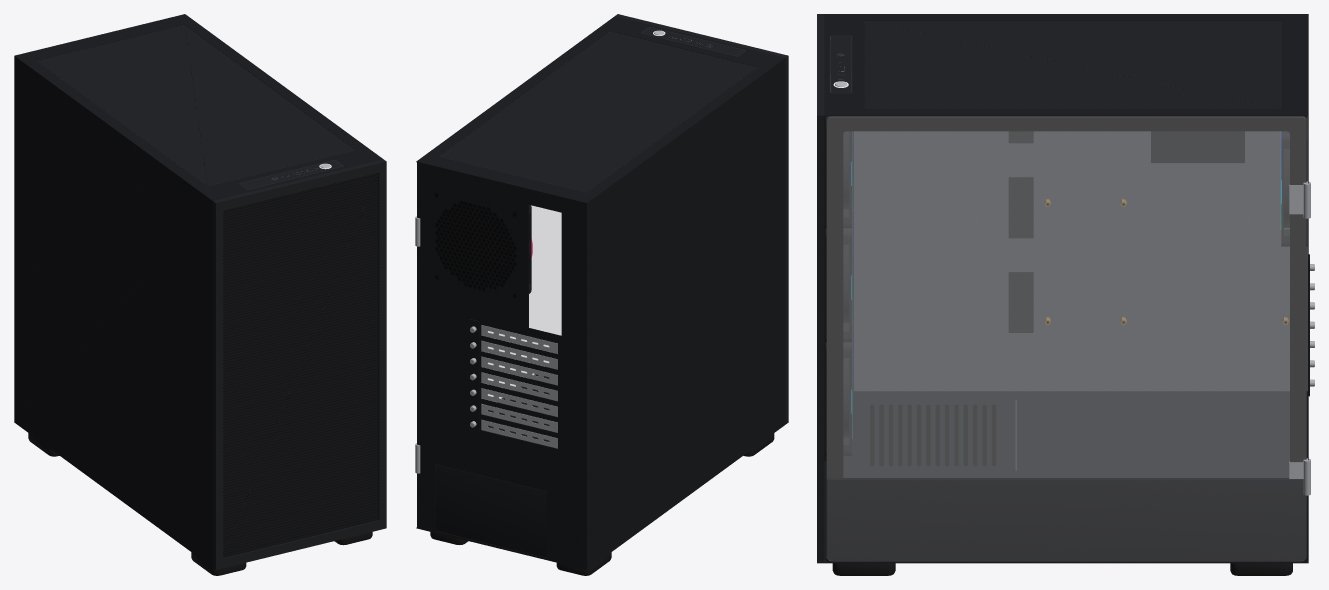
Rendered from mid-tower.glb.
3 views of the same model, side by side, from view 1: azimuth 30°, elevation 25°; view 2: azimuth 150°, elevation 25°; view 3: azimuth 270°, elevation 25° (orthographic). The views are drawn at different scales.
Parts seen in each view (by area): view 1: Front bezel and mesh, Steel chassis panels, Top I/O panel, Rubber feet; view 2: Steel chassis panels, Front bezel and mesh, PSU shroud, Expansion slot covers, Tempered glass side panel, Top I/O panel, Rubber feet; view 3: Tempered glass side panel, Motherboard tray, PSU shroud, Front bezel and mesh, Steel chassis panels, Glass frit border, Cable grommets, Rubber feet, Top I/O panel, Front fan 2 frame, Front fan 1 frame, Side panel hinge knuckles (+2 smaller).
Part boxes in pixels (left/top/right/bottom): Front bezel and mesh: left=37, top=25, right=386, bottom=569; Steel chassis panels: left=14, top=14, right=382, bottom=567; Top I/O panel: left=238, top=160, right=343, bottom=189; Rubber feet: left=28, top=433, right=372, bottom=575; Steel chassis panels: left=416, top=16, right=785, bottom=569; Front bezel and mesh: left=439, top=14, right=788, bottom=424; PSU shroud: left=435, top=369, right=557, bottom=557; Expansion slot covers: left=469, top=319, right=557, bottom=448; Tempered glass side panel: left=488, top=205, right=561, bottom=398; Top I/O panel: left=640, top=27, right=745, bottom=56; Rubber feet: left=430, top=433, right=774, bottom=575; Tempered glass side panel: left=827, top=116, right=1306, bottom=560; Motherboard tray: left=853, top=116, right=1307, bottom=391; PSU shroud: left=826, top=391, right=1307, bottom=561; Front bezel and mesh: left=817, top=14, right=1282, bottom=563; Steel chassis panels: left=824, top=14, right=1308, bottom=563; Glass frit border: left=826, top=116, right=1306, bottom=478; Cable grommets: left=1008, top=131, right=1033, bottom=332; Rubber feet: left=832, top=563, right=1292, bottom=575; Top I/O panel: left=829, top=35, right=852, bottom=93; Front fan 2 frame: left=825, top=209, right=851, bottom=342; Front fan 1 frame: left=825, top=323, right=851, bottom=455; Side panel hinge knuckles: left=1289, top=181, right=1310, bottom=495.
Size of the model in its own units: 0.2316 by 0.4916 by 0.4758.
Materials: 27 (27 with a texture image).
